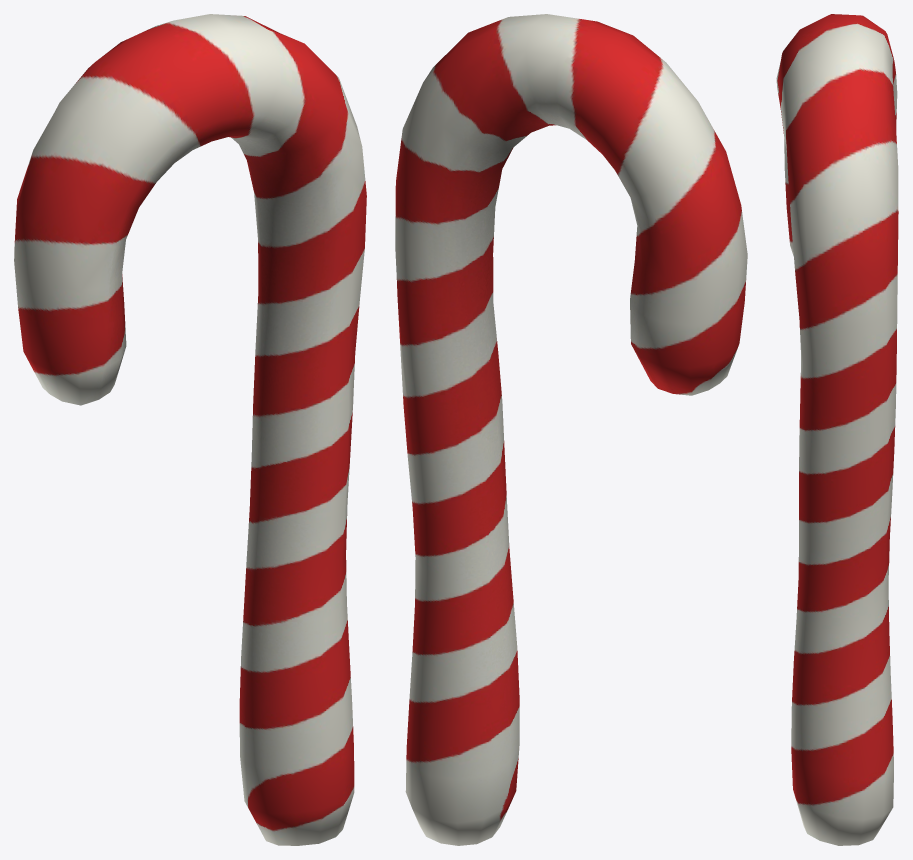
File: candy_cane_01.glb
3 views of the same model, side by side, from view 1: azimuth 30°, elevation 25°; view 2: azimuth 150°, elevation 25°; view 3: azimuth 270°, elevation 25° (orthographic). The views are drawn at different scales.
Parts seen in each view (by area): view 1: candy_cane_01; view 2: candy_cane_01; view 3: candy_cane_01.
Boxes of the visible parts, x1=… form: candy_cane_01: x1=14, y1=14, x2=366, y2=845; candy_cane_01: x1=395, y1=14, x2=747, y2=845; candy_cane_01: x1=776, y1=14, x2=898, y2=845.
Size of the model in its own units: 0.5189 by 1.25 by 0.182.
1 material, 1 textured.
